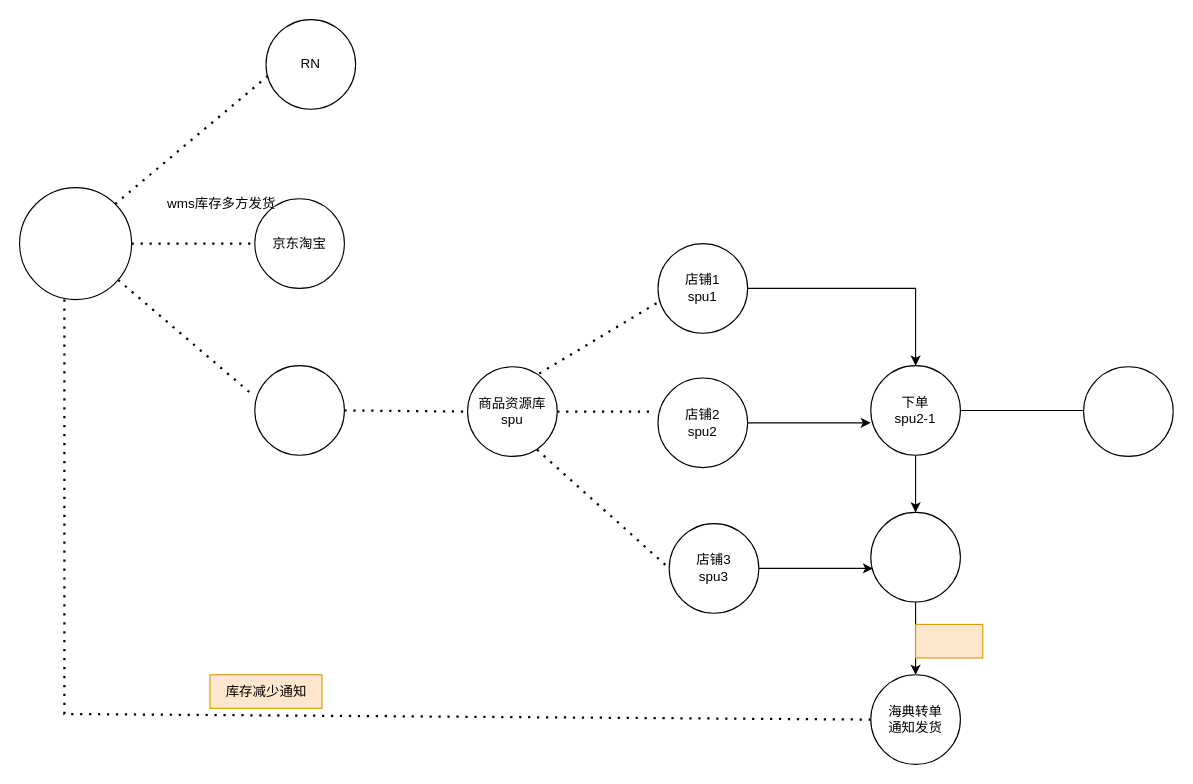
Some shapes in this 1193 by 784 pixel diagram are drawn without their labels. Each missing label, with the centre of its shape:
WSM: the point at 75,243
微商城: the point at 299,410
支付 推送海典: the point at 915,556
时间差: the point at 948,640
未支付 超时取消 spu2+1: the point at 1127,411
